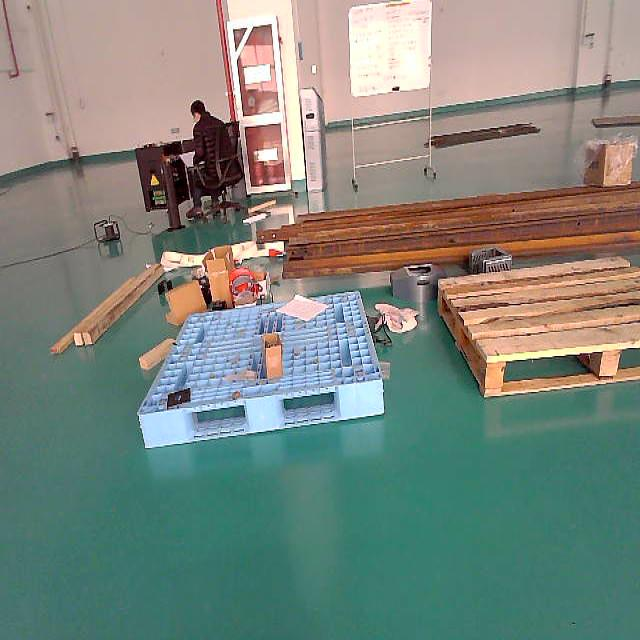euro: (437, 256, 640, 403)
